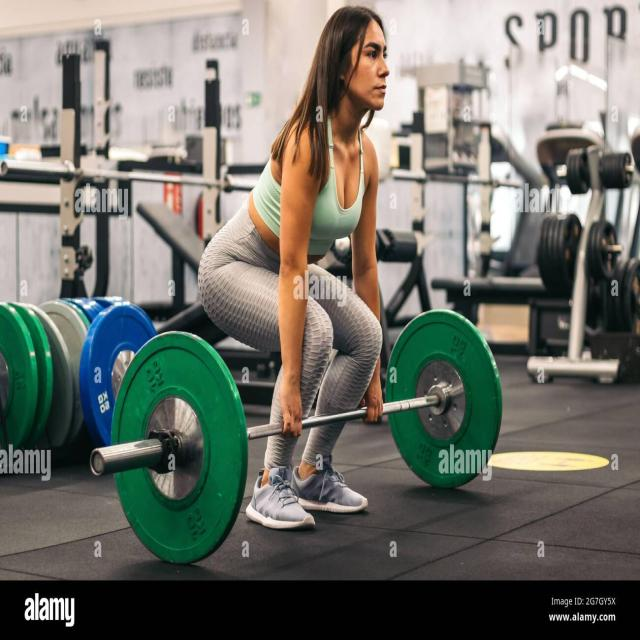barbell_plate_side: (90, 307, 193, 564), (400, 307, 503, 564)
